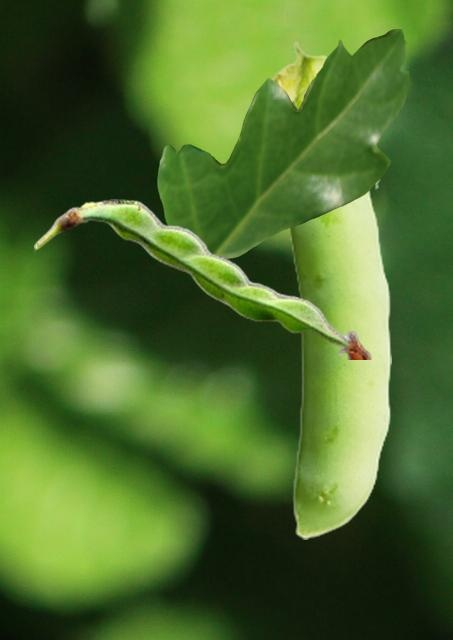pea: (269, 41, 390, 538), (34, 199, 371, 358)
